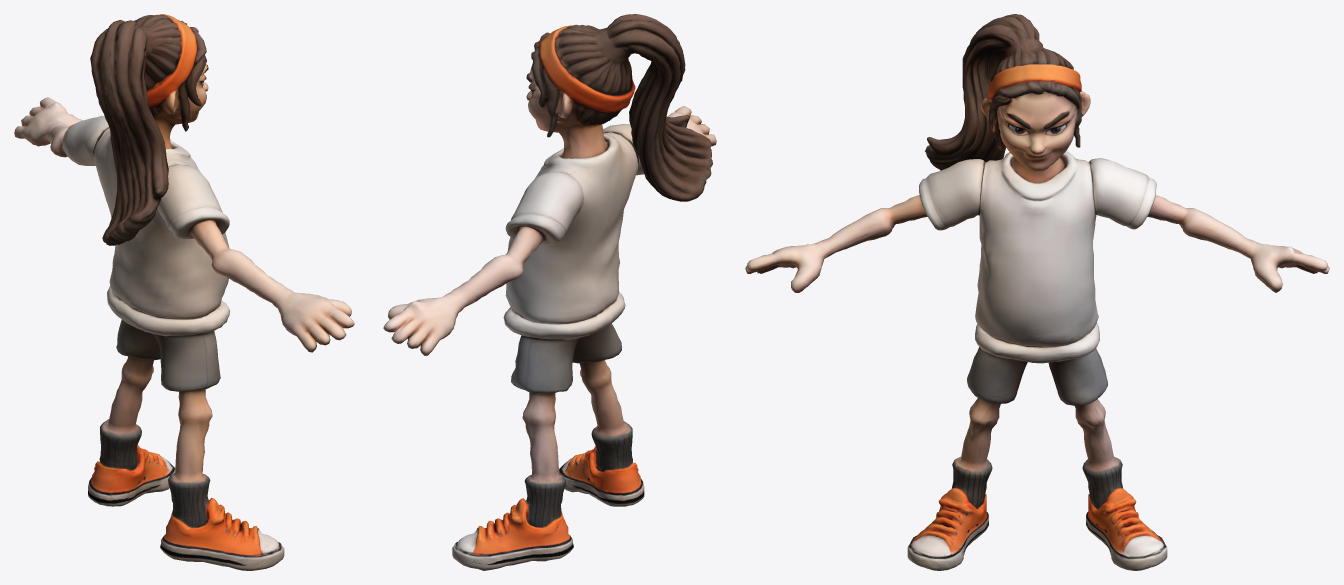
The picture shows the model from 3 angles, left to right: view 1: azimuth 30°, elevation 25°; view 2: azimuth 150°, elevation 25°; view 3: azimuth 270°, elevation 25°; orthographic projection. The views are drawn at different scales.
Parts seen in each view (by area): view 1: tripo_node_ecec7e06; view 2: tripo_node_ecec7e06; view 3: tripo_node_ecec7e06.
Boxes of the visible parts, x1,y1,x2,y2 form: tripo_node_ecec7e06: (14, 14, 354, 570); tripo_node_ecec7e06: (383, 14, 716, 570); tripo_node_ecec7e06: (745, 14, 1329, 570).
Size of the model in its own units: 29.75 by 94.91 by 100.
1 material, 1 textured.
